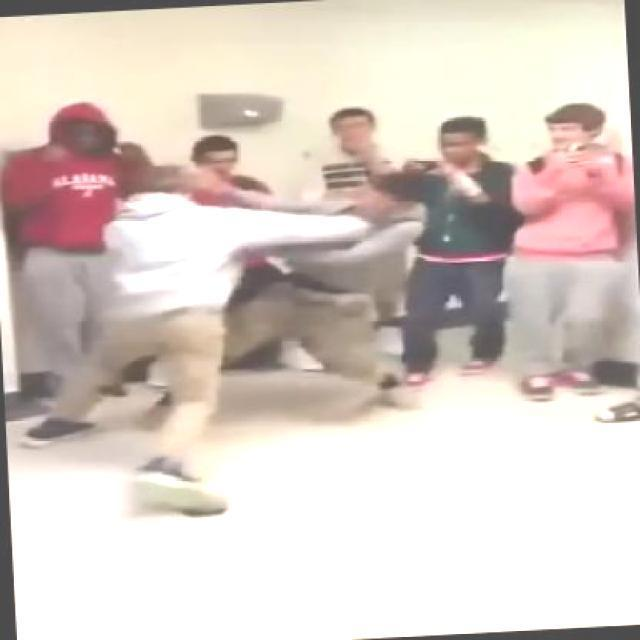fight: (92, 151, 432, 500)
non-fight: (416, 102, 638, 410)
